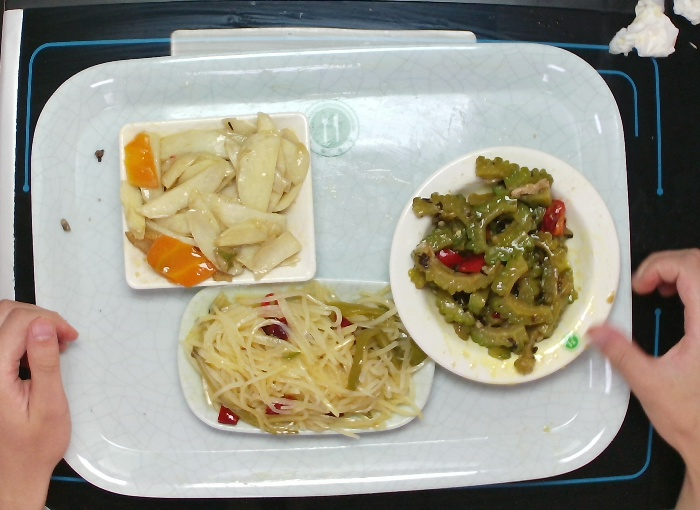WCQzf-Bai_Se_Si_Fang_Die: (112, 107, 322, 299)
WCQzf-Kuan_Bian_Yuan_Die: (385, 140, 624, 389)
WCQzf-Tuo_Yuan_Pan: (173, 278, 438, 443)
